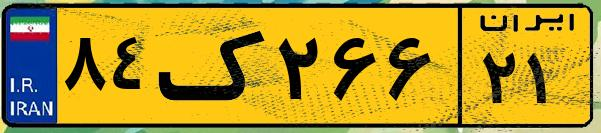1: (525, 38, 570, 115)
2: (270, 28, 330, 110), (475, 38, 525, 113)
4: (110, 28, 158, 98)
6: (385, 28, 445, 110), (330, 28, 385, 110)
8: (57, 26, 110, 100)
ک: (158, 12, 270, 120)
